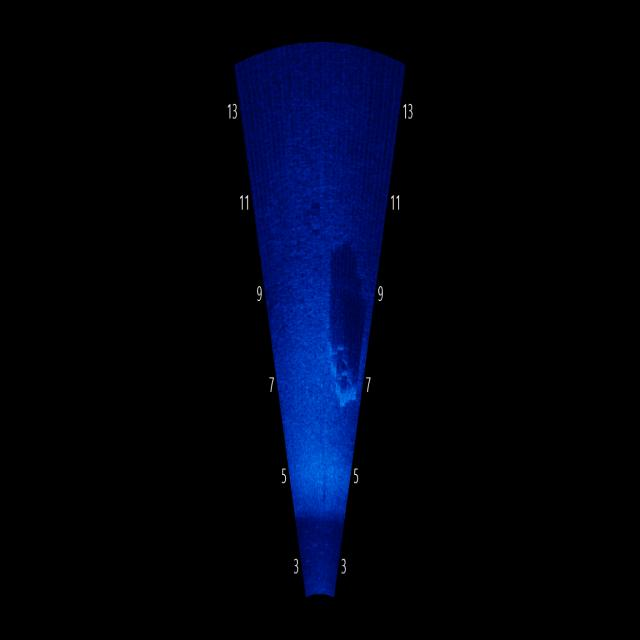square: (323, 338, 360, 416)
